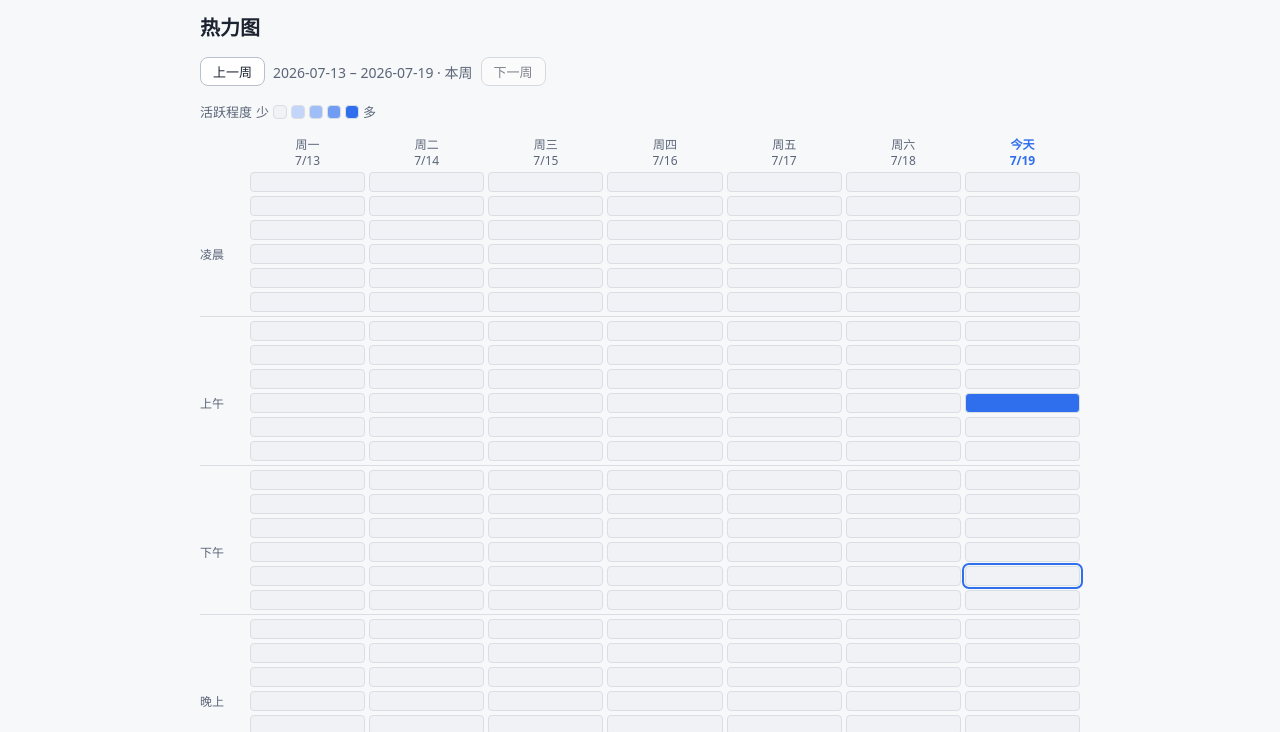
Test case: Heatmap 页面 › 周导航 › A→B→A 时旧 A 的 finally 不得清除新 A 的防重入身份
Click the button "上一周": (232, 72) [200,57,265,86]
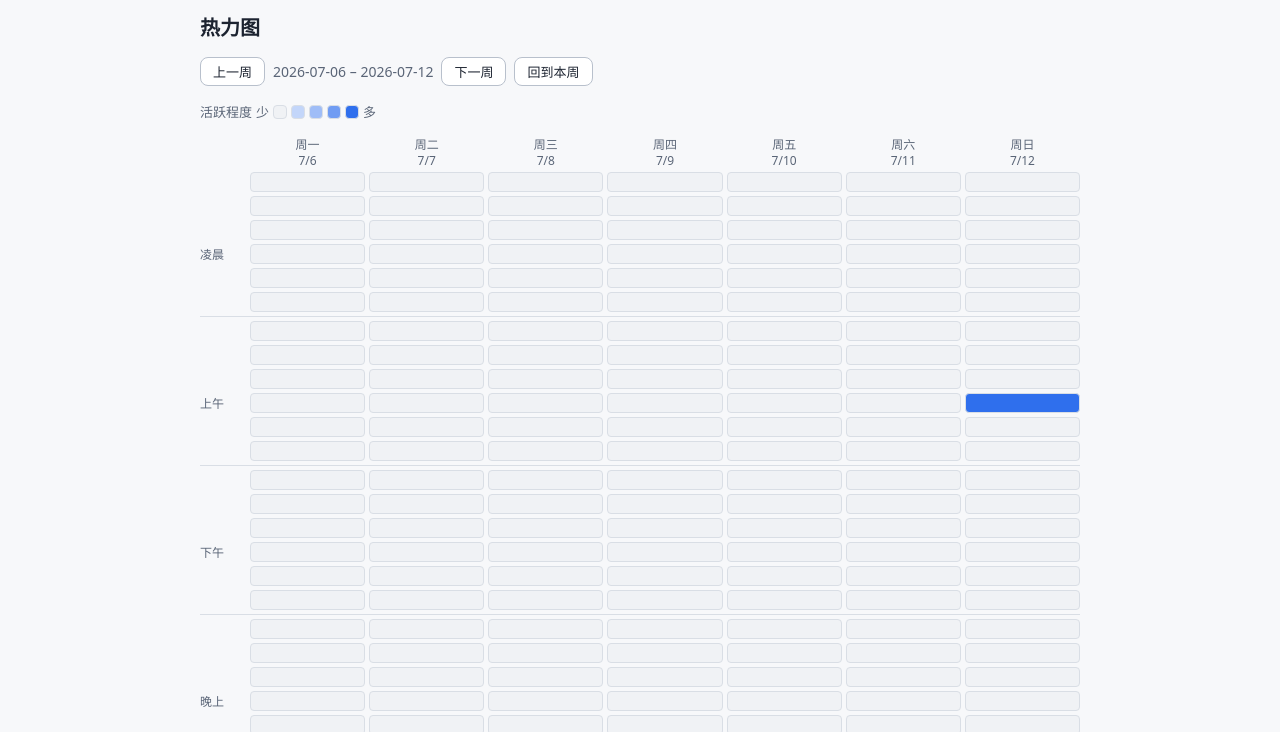
Now the text "2026-07-06 – 2026-07-12" is shown, box [273,62,434,81]
Click the button "回到本周": (554, 72) [514,57,592,86]
Wait 15000 ms
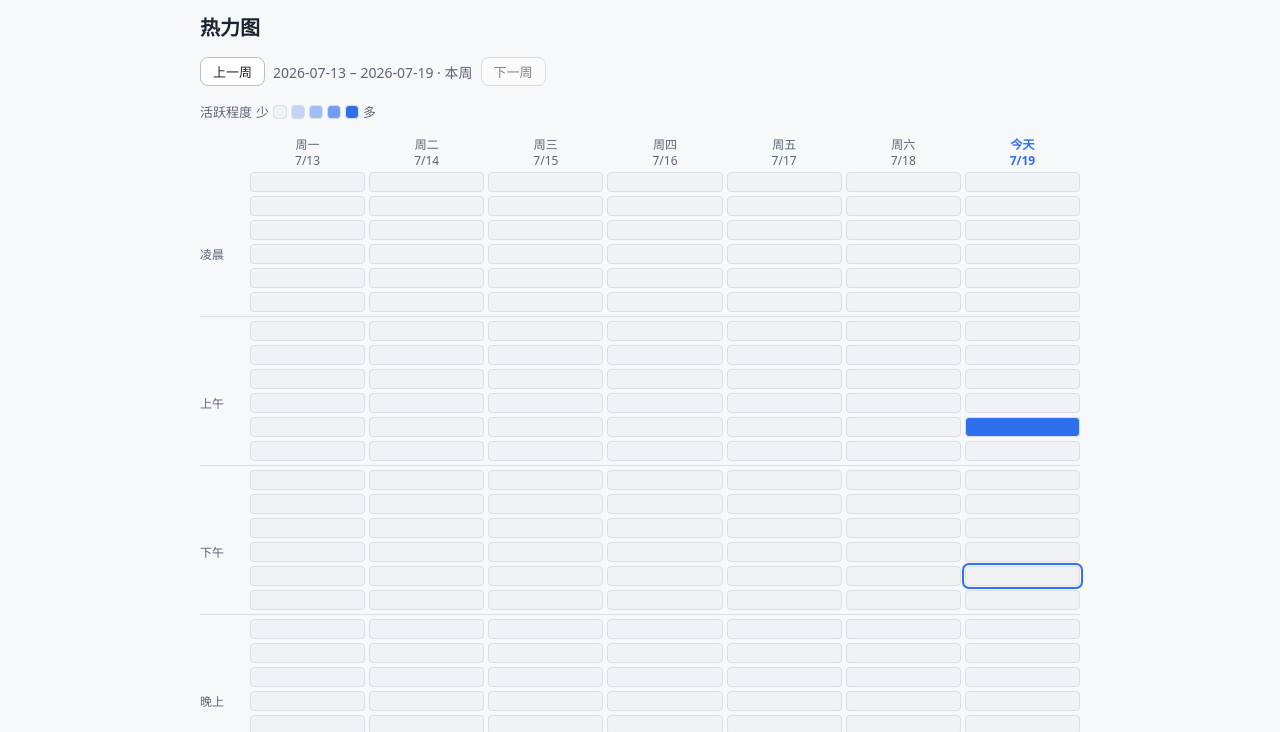
Now the cell named "7月19日 10时，活跃 1 小时，活跃程度 极高" is shown, box [965,417,1080,437]
